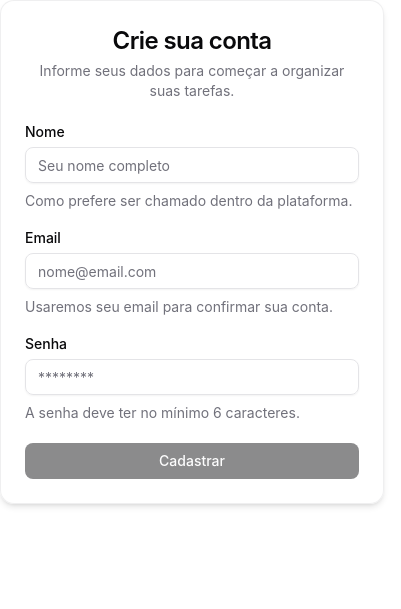
Test: RegisterForm › mostra mensagens de validação para campos obrigatórios ou inválidos
The width and height of the screenshot is (401, 609).
Step 1. Type "Usuário" into the field labelled "Nome" → (192, 165), box [25, 147, 359, 183]
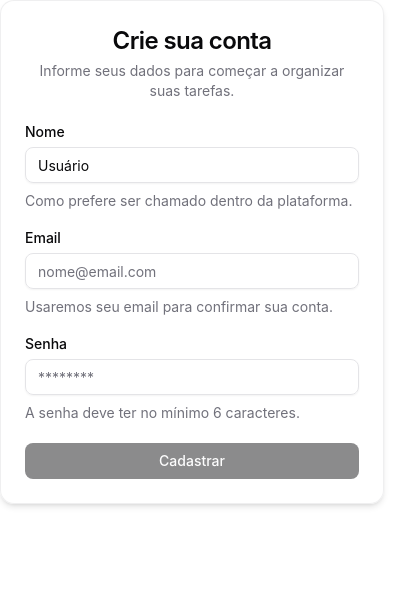
Step 2. Clear the field labelled "Nome" → (192, 165), box [25, 147, 359, 183]
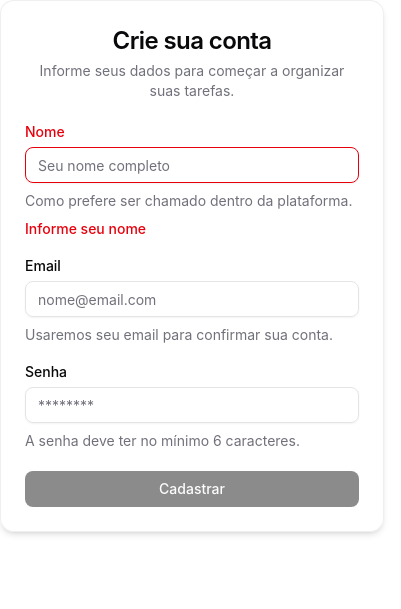
Expected: the text "Informe seu nome" is shown, [25, 220, 146, 237]
Step 3. Type "invalido" into the field labelled "Email" → (192, 299), box [25, 281, 359, 317]
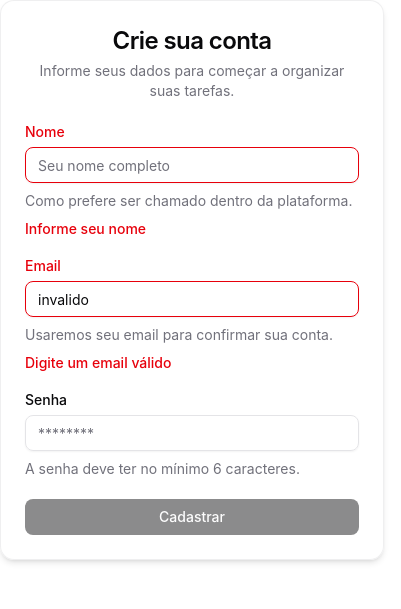
Expected: the text "Digite um email válido" is shown, [25, 354, 172, 371]
Step 4. Type "123456" into the password field labelled "Senha" → (192, 433), box [25, 415, 359, 451]
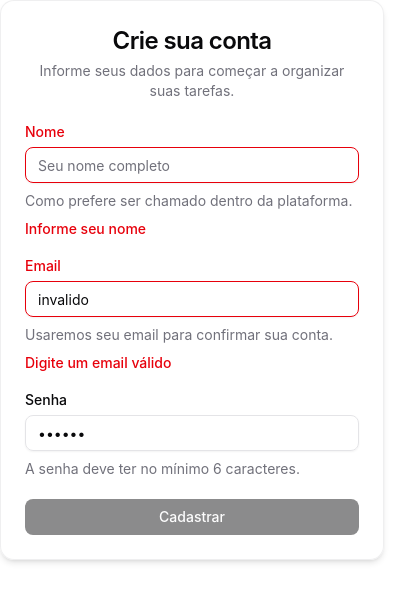
Step 5. Clear the password field labelled "Senha" → (192, 433), box [25, 415, 359, 451]
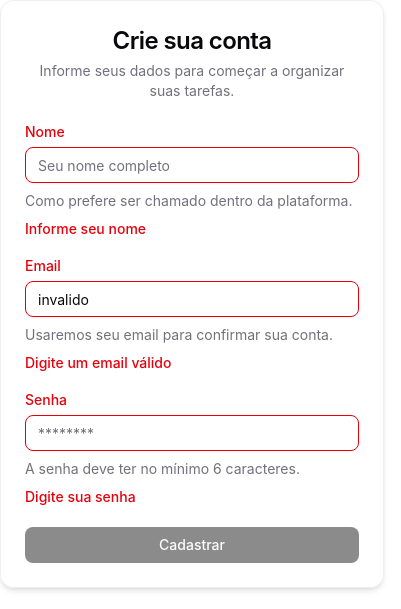
Expected: the text "Digite sua senha" is shown, [25, 488, 136, 505]
